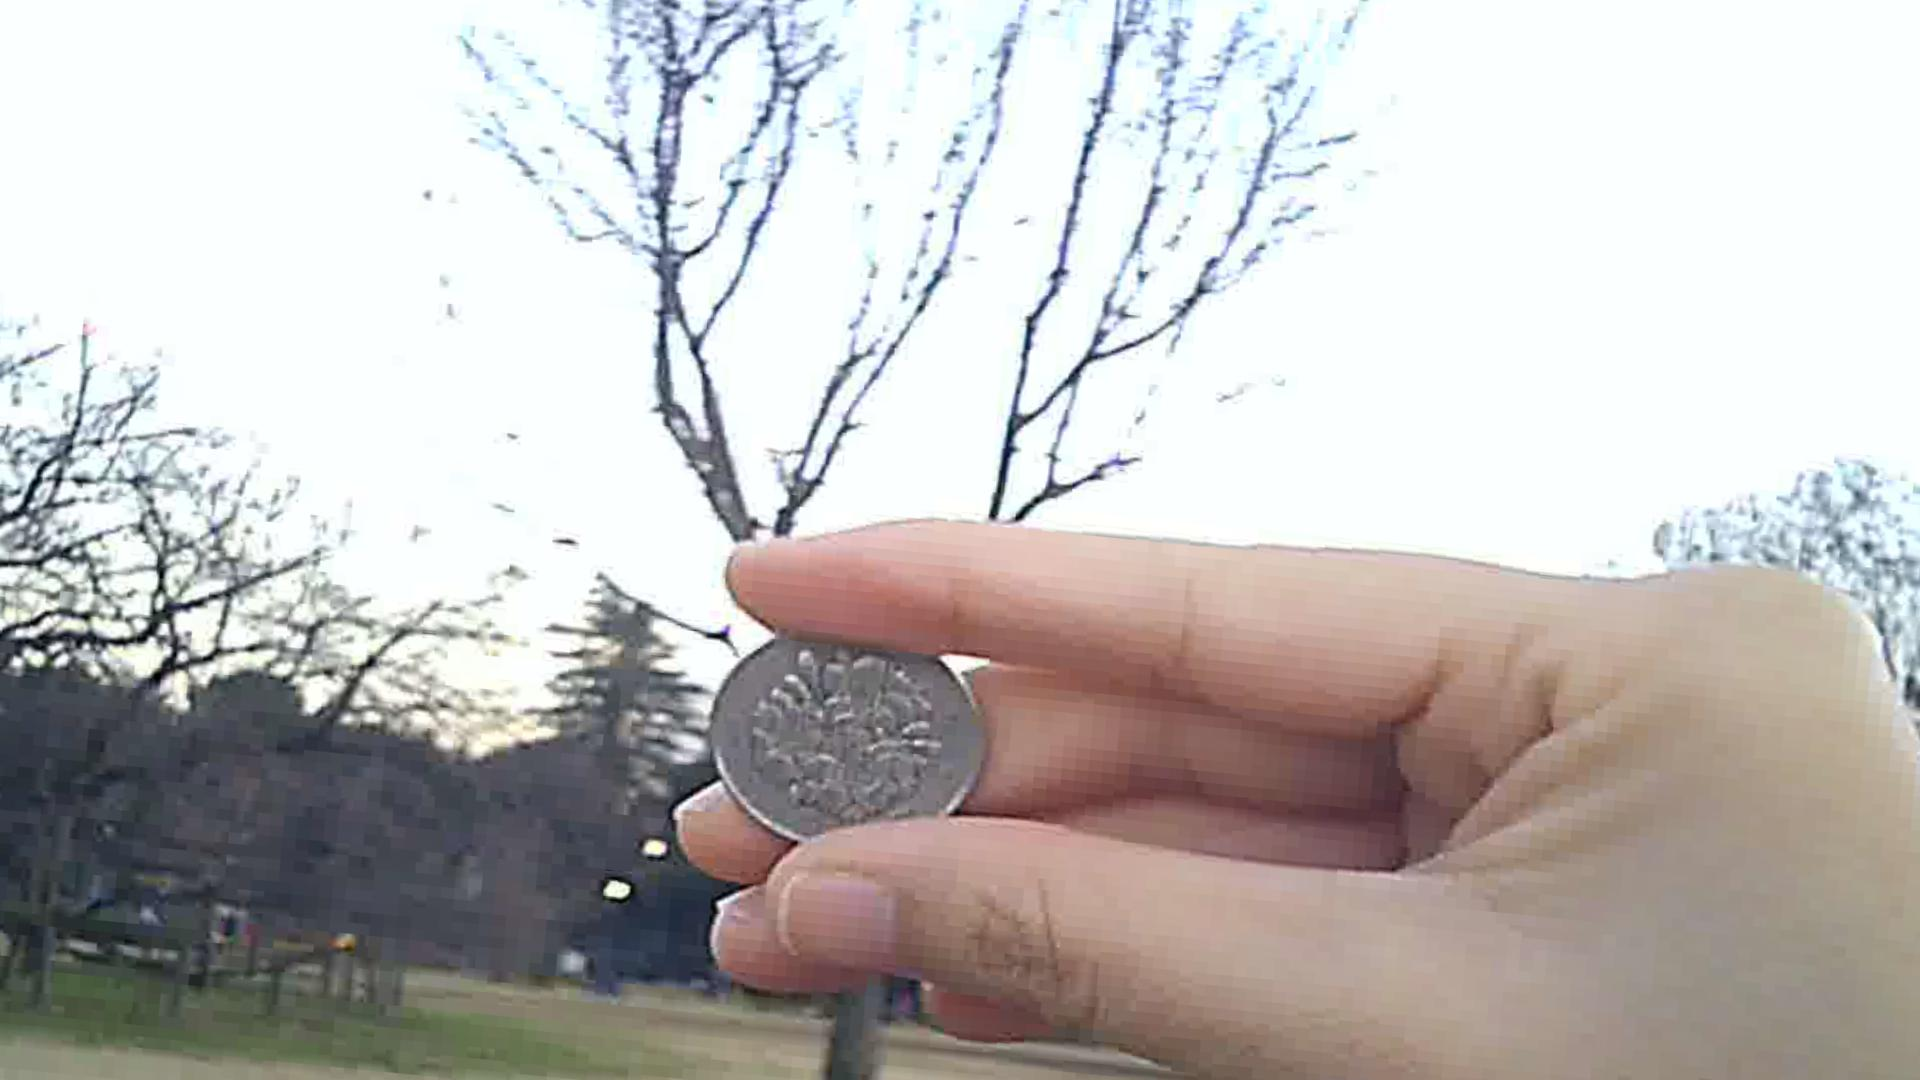100 Yen: (692, 615, 1006, 853)
